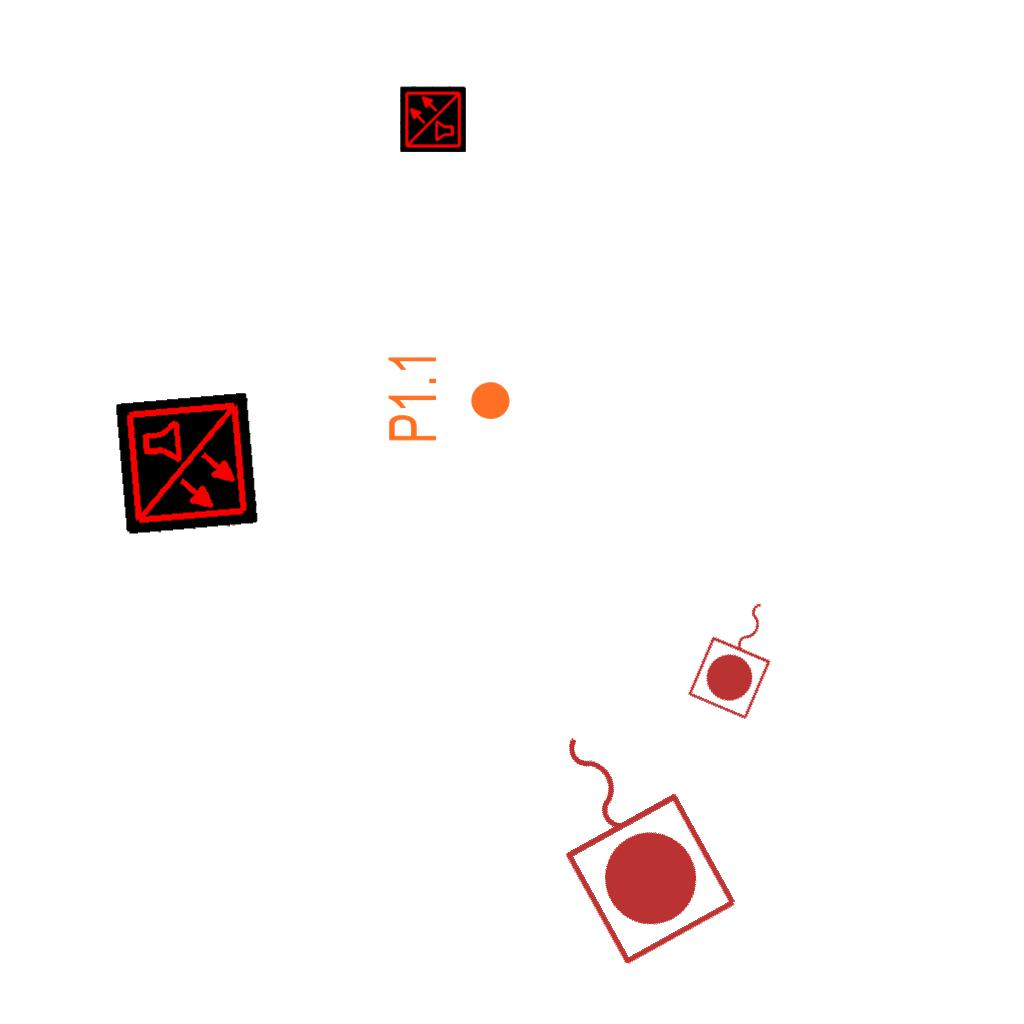Downlight_LED_Einbauleuchten_Flur_2: (385, 351, 513, 444)
OKW_Multisensormelder_(Kombination_optischer_Rauch-Kahlenmonoxid_Waerme-Melder): (115, 392, 259, 536), (400, 86, 466, 152)
Zugtaster: (505, 692, 751, 976), (683, 584, 797, 726)
